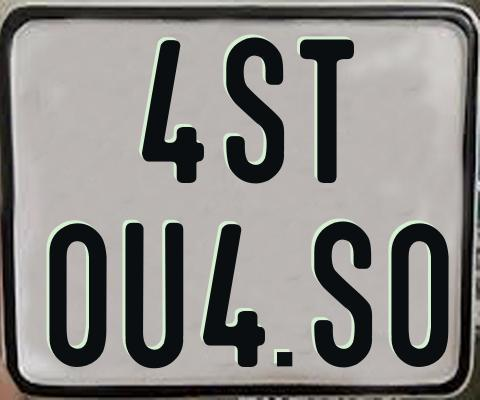0: (47, 223, 109, 369), (389, 222, 447, 371)
4: (140, 40, 208, 189), (201, 221, 269, 365)
S: (223, 36, 282, 187), (311, 218, 369, 367)
T: (299, 38, 359, 187)
U: (125, 222, 185, 368)
